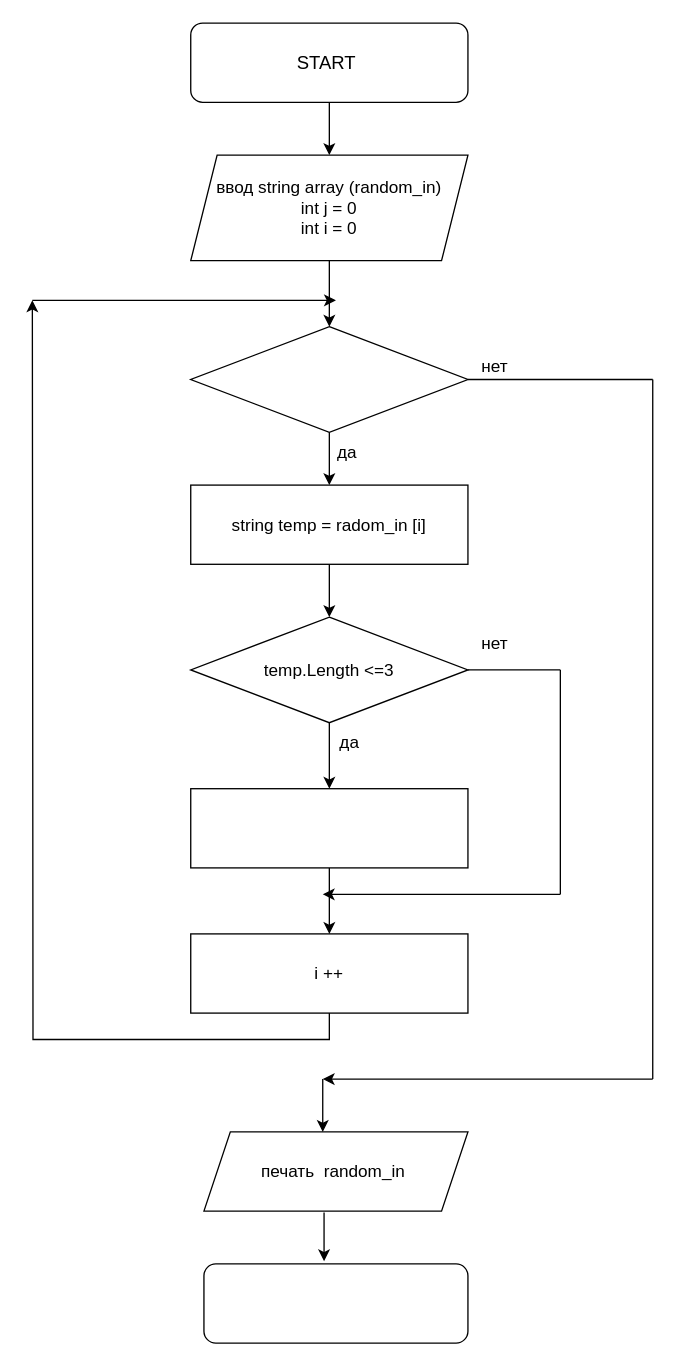
Some shapes in this 686 by 1366 pixel diagram are drawn without their labels. The box of each missing label's shape, as (x1, y1, x2, y2) in pixels:
END: (203, 1263, 468, 1343)
i < 4: (189, 325, 468, 432)
random_in[j] = temp j++: (189, 787, 468, 868)
